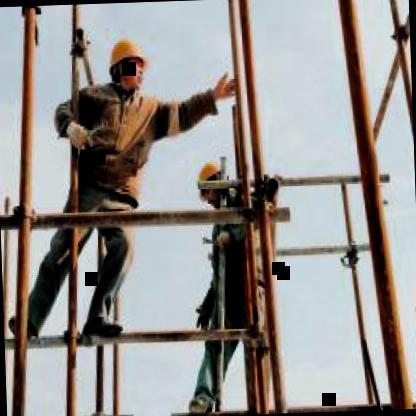helmet: (105, 27, 150, 98), (192, 152, 235, 210)
